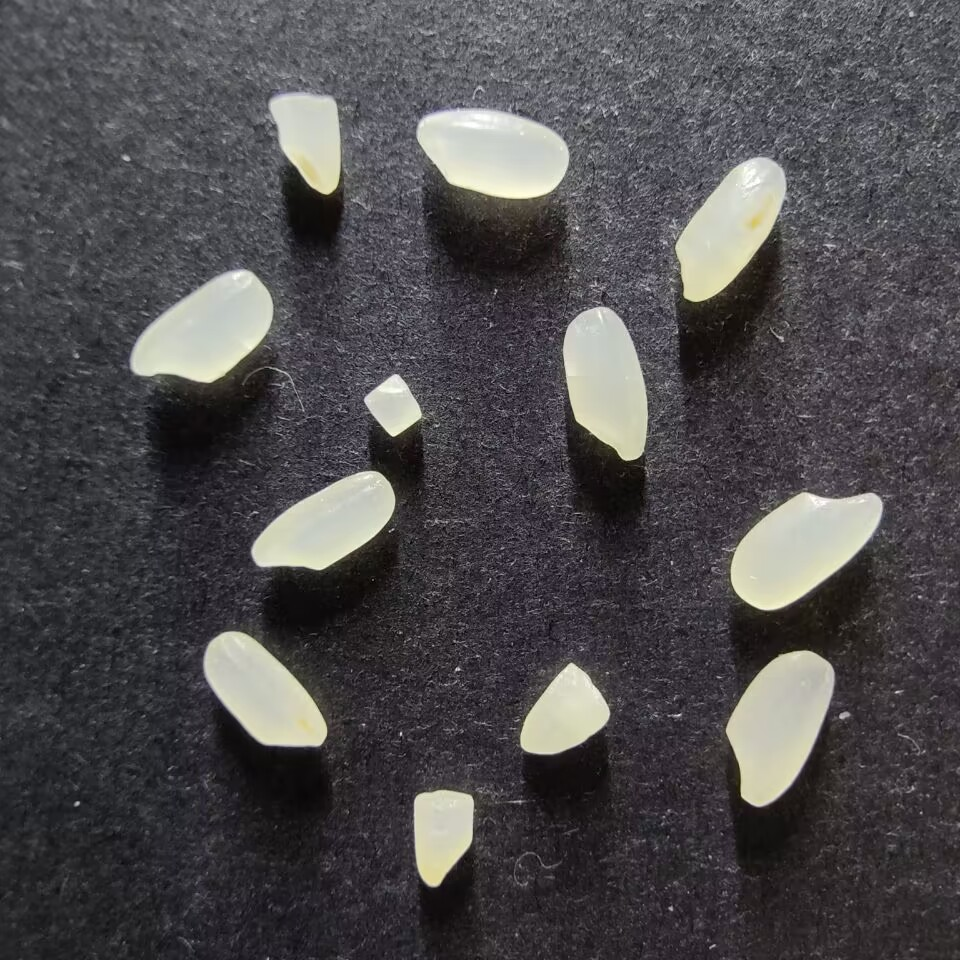broken: (518, 660, 610, 756), (266, 92, 341, 195), (413, 789, 475, 889), (364, 371, 422, 438)
rice: (728, 490, 884, 611), (725, 649, 835, 808), (129, 268, 273, 383), (674, 156, 786, 303), (202, 630, 328, 749), (251, 469, 396, 571), (415, 109, 569, 199), (561, 306, 649, 461)
